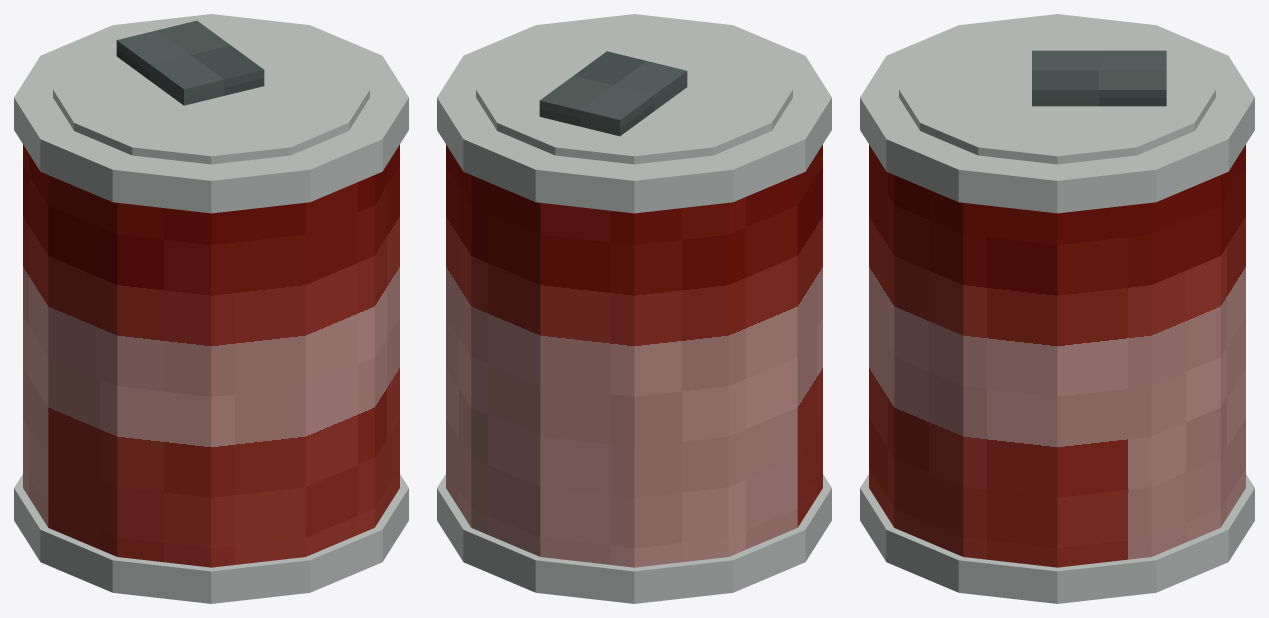
The model's file is canned_food.glb.
The picture shows the model from 3 angles, left to right: view 1: azimuth 30°, elevation 25°; view 2: azimuth 150°, elevation 25°; view 3: azimuth 270°, elevation 25°; orthographic projection.
Parts seen in each view (by area): view 1: Tomato soup tin, Pressed tin rim.001, Lid inset, Pressed tin rim, Pull tab; view 2: Tomato soup tin, Pressed tin rim.001, Lid inset, Pressed tin rim, Pull tab; view 3: Tomato soup tin, Pressed tin rim.001, Lid inset, Pressed tin rim, Pull tab.
Boxes of the visible parts, x1=… form: Tomato soup tin: x1=23, y1=144, x2=399, y2=567; Pressed tin rim.001: x1=14, y1=14, x2=408, y2=213; Lid inset: x1=53, y1=22, x2=369, y2=164; Pressed tin rim: x1=14, y1=474, x2=408, y2=603; Pull tab: x1=116, y1=20, x2=264, y2=105; Tomato soup tin: x1=446, y1=144, x2=822, y2=567; Pressed tin rim.001: x1=437, y1=14, x2=831, y2=213; Lid inset: x1=476, y1=22, x2=792, y2=164; Pressed tin rim: x1=437, y1=474, x2=831, y2=603; Pull tab: x1=539, y1=51, x2=687, y2=136; Tomato soup tin: x1=869, y1=144, x2=1245, y2=567; Pressed tin rim.001: x1=860, y1=14, x2=1254, y2=213; Lid inset: x1=899, y1=22, x2=1215, y2=164; Pressed tin rim: x1=860, y1=474, x2=1254, y2=603; Pull tab: x1=1032, y1=50, x2=1166, y2=106.
Size of the model in its own units: 0.132 by 0.166 by 0.132.
3 materials, 2 textured.
